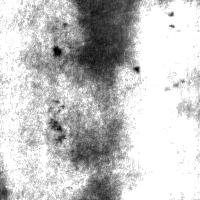patches: (115, 74, 200, 176), (96, 0, 178, 63), (73, 1, 134, 77), (156, 72, 200, 144), (67, 121, 128, 168), (79, 170, 124, 198)
